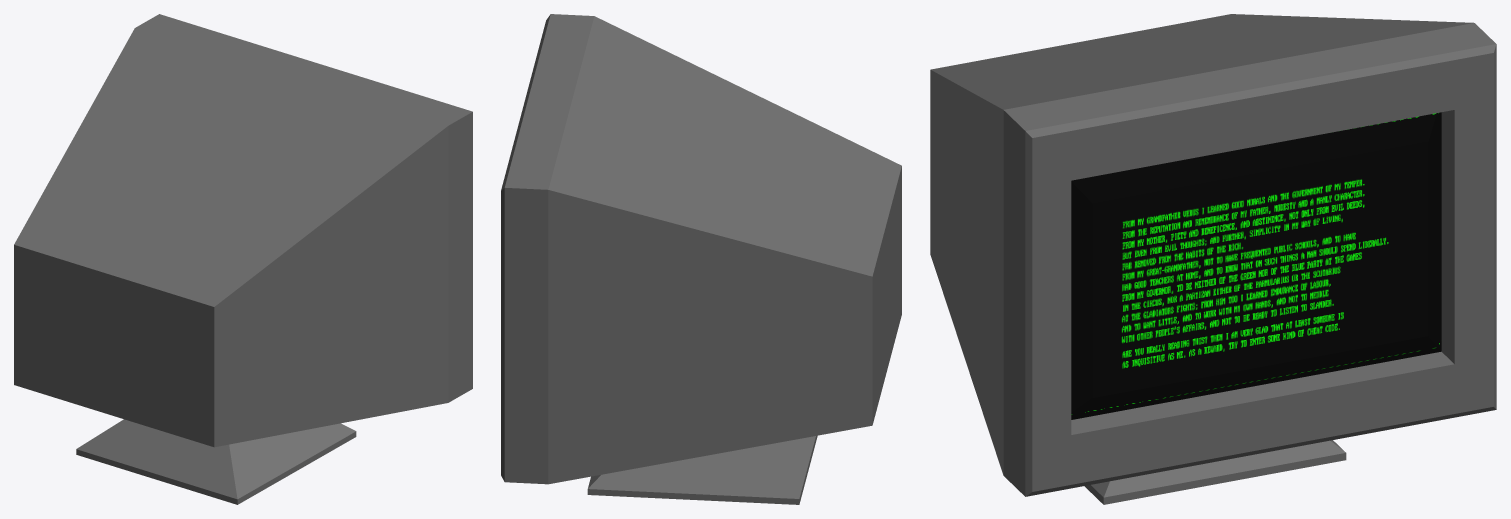
The model's file is first_pc.glb.
3 views of the same model, side by side, from view 1: azimuth 30°, elevation 25°; view 2: azimuth 150°, elevation 25°; view 3: azimuth 270°, elevation 25° (orthographic). The views are drawn at different scales.
Visible parts, largest first — view 1: Monitor; view 2: Monitor; view 3: Monitor.
Part boxes in pixels (x1,y1,x2,y2): Monitor: (14, 14, 472, 504); Monitor: (501, 14, 901, 504); Monitor: (930, 14, 1496, 504).
Size of the model in its own units: 1.95 by 1.58 by 1.89.
2 materials, 1 textured.
